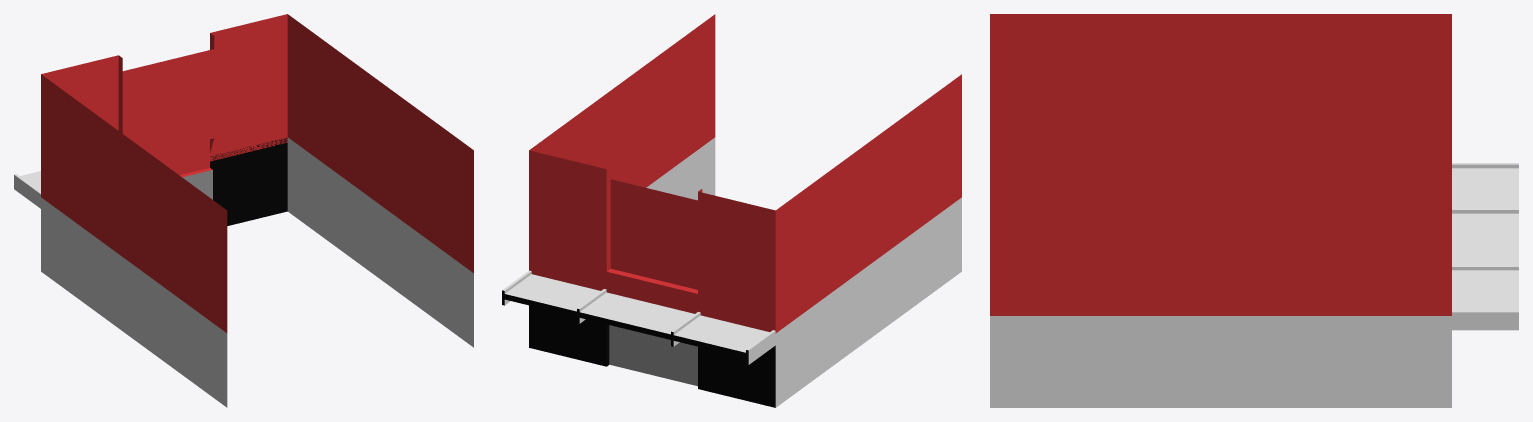
Rendered from Loja_01.fbx.
The picture shows the model from 3 angles, left to right: view 1: azimuth 30°, elevation 25°; view 2: azimuth 150°, elevation 25°; view 3: azimuth 270°, elevation 25°; orthographic projection. The views are drawn at different scales.
Visible parts, largest first — view 1: Cube.002; view 2: Cube.002; view 3: Cube.002.
Part boxes in pixels (left/top/right/bottom): Cube.002: left=14, top=14, right=473, bottom=407; Cube.002: left=502, top=14, right=961, bottom=407; Cube.002: left=990, top=14, right=1518, bottom=407.
Size of the model in its own units: 20.63 by 15.79 by 30.9.
